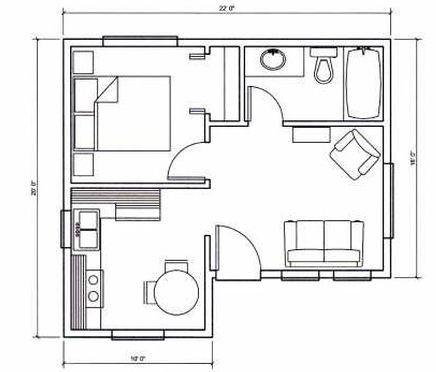door: (215, 215, 262, 288), (247, 77, 289, 128), (169, 143, 217, 183)
room: (241, 50, 392, 277), (60, 35, 239, 184), (64, 192, 217, 341)
wall: (176, 35, 392, 48), (379, 34, 398, 161), (60, 34, 72, 209), (203, 244, 217, 339), (61, 324, 112, 343), (166, 327, 224, 340), (62, 248, 70, 339), (60, 34, 99, 49), (381, 238, 395, 279), (263, 267, 284, 284), (373, 270, 404, 279), (321, 270, 334, 282)
window: (100, 34, 177, 50), (383, 162, 399, 239), (113, 324, 164, 344), (335, 267, 375, 284), (282, 268, 321, 283), (58, 210, 72, 250)
